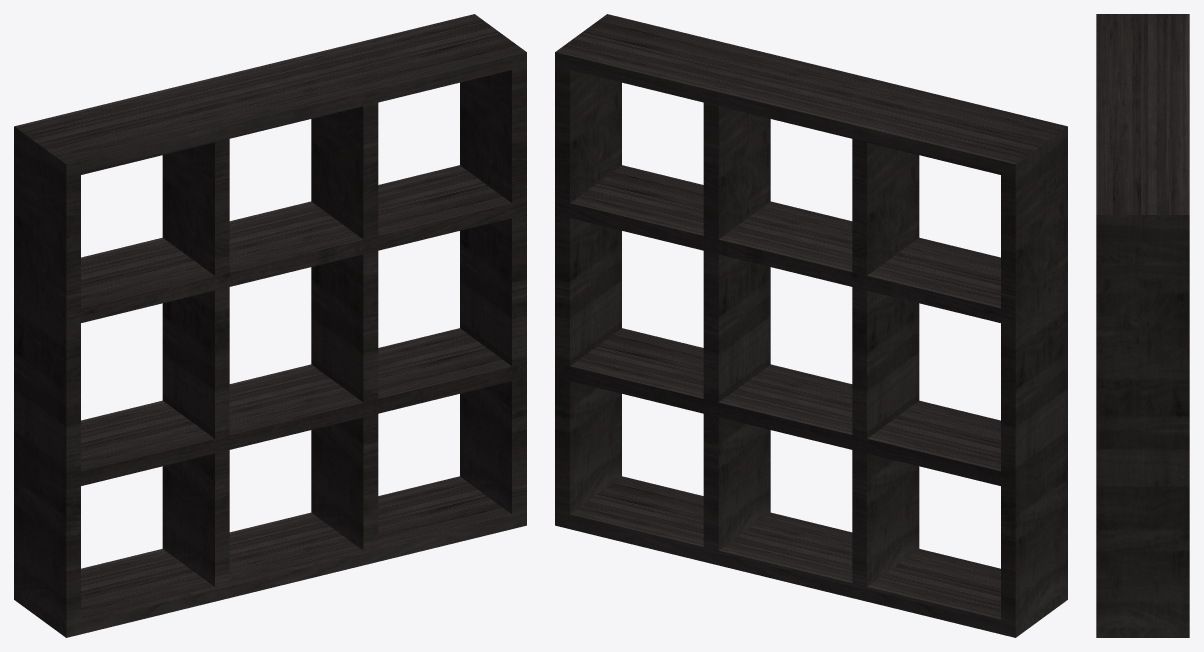
File: shelf2.fbx
The picture shows the model from 3 angles, left to right: view 1: azimuth 30°, elevation 25°; view 2: azimuth 150°, elevation 25°; view 3: azimuth 270°, elevation 25°; orthographic projection. The views are drawn at different scales.
Parts seen in each view (by area): view 1: Cube; view 2: Cube; view 3: Cube.
Boxes of the visible parts, x1,y1,x2,y2 form: Cube: [14, 14, 526, 637]; Cube: [555, 14, 1067, 637]; Cube: [1096, 14, 1189, 637].
Size of the model in its own units: 1020 by 1002 by 200.
